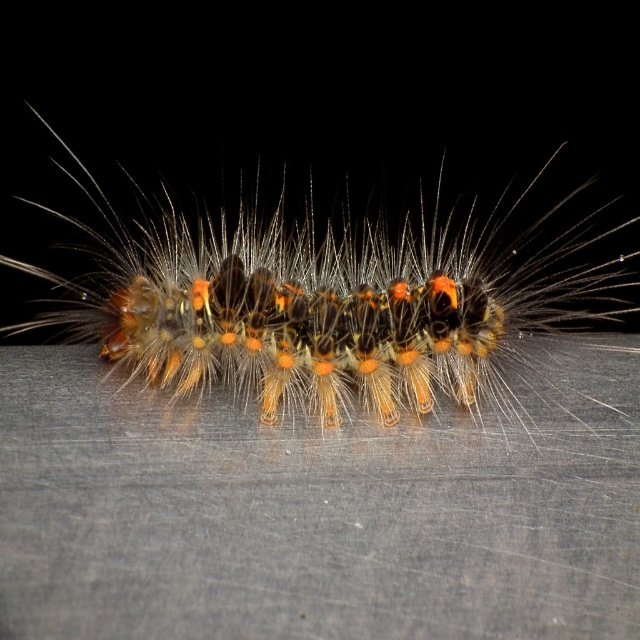Caterpillar: (0, 96, 638, 458)
